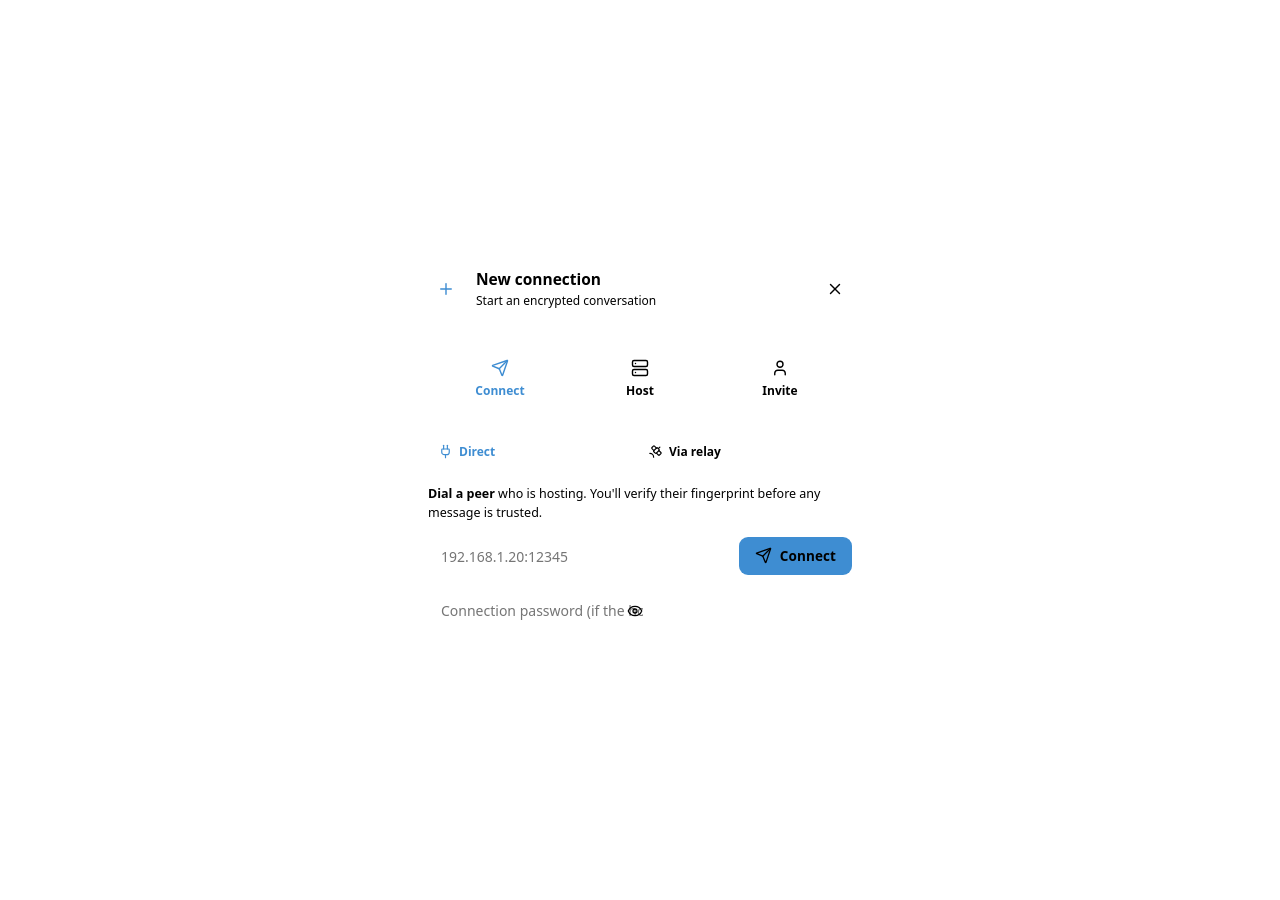
Scenario: Creator — dialling a peer › surfaces a refused connection in the dialog
Type "10.0.0.5:9000" into the field with placeholder "192.168.1.20:12345". click: (579, 556)
box: [428,536,731,576]
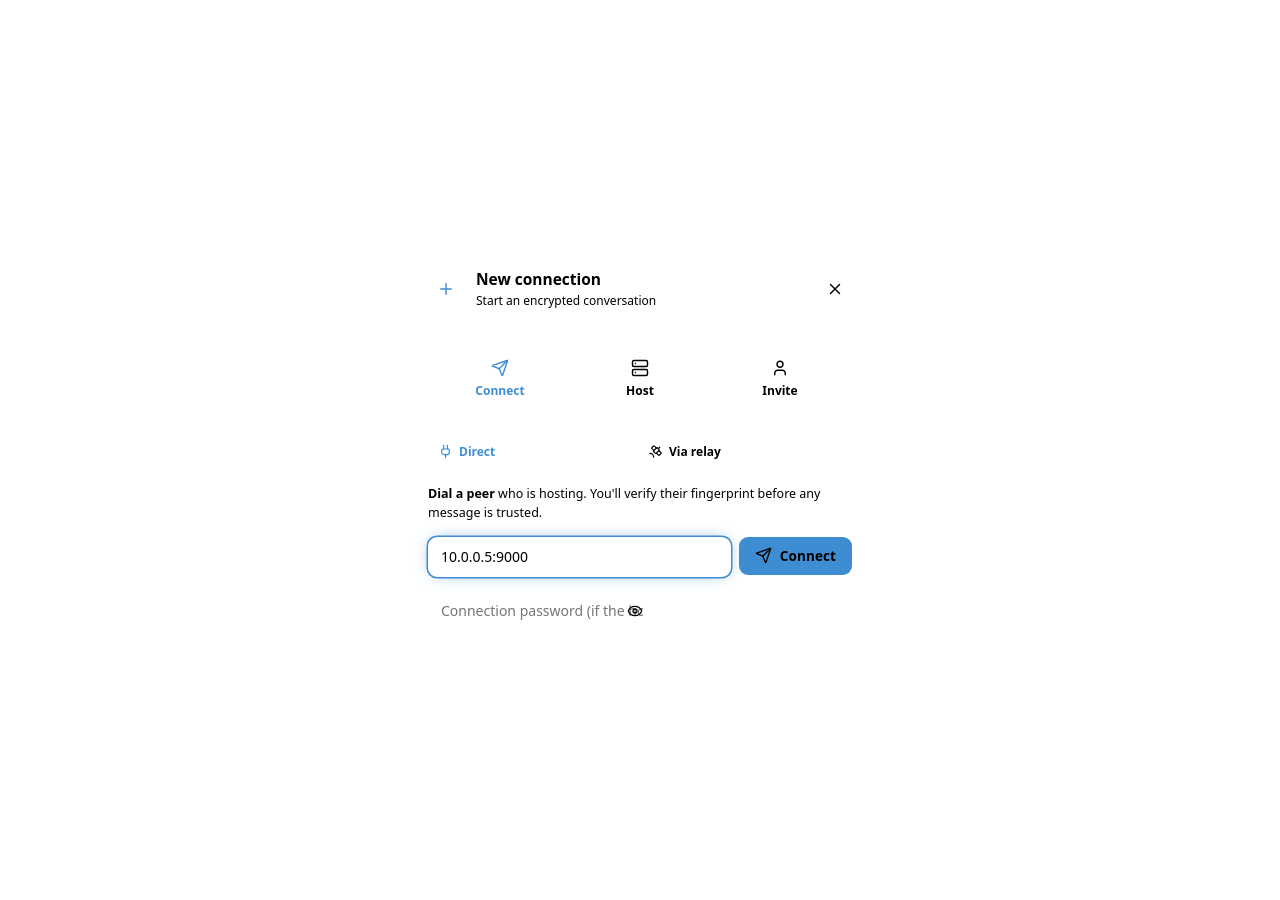
Click the button "Connect" below "Dial a peer". click: (795, 555)
box: [739,536,852,574]
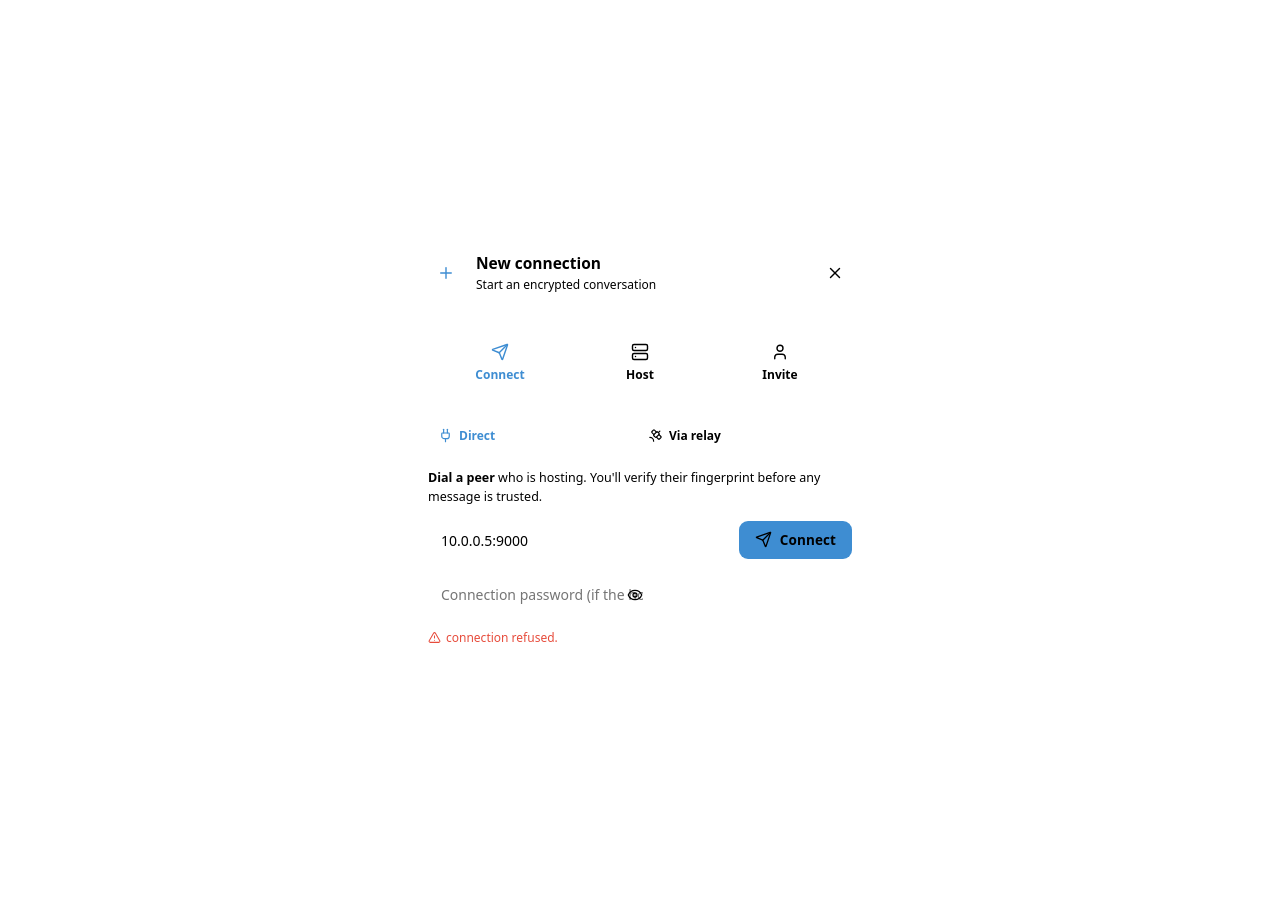
Expected: the text "connection refused." is shown, [428,628,558,645]
